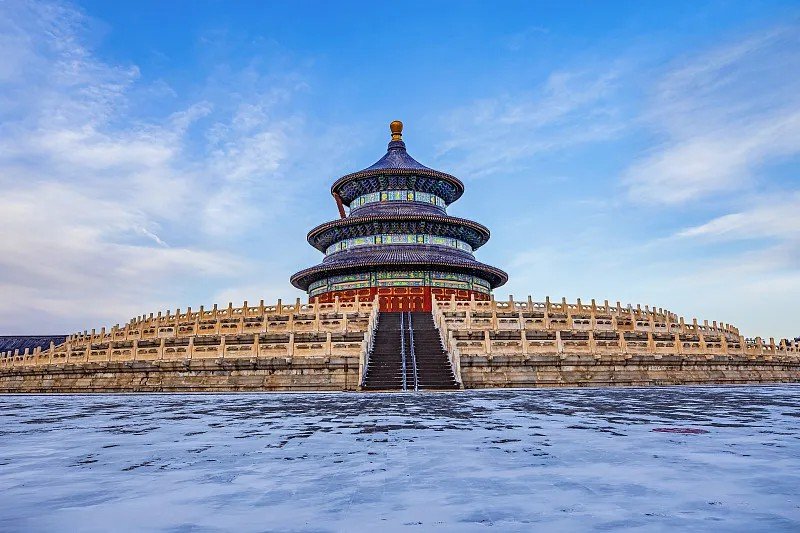Heaven: (290, 119, 509, 312)
